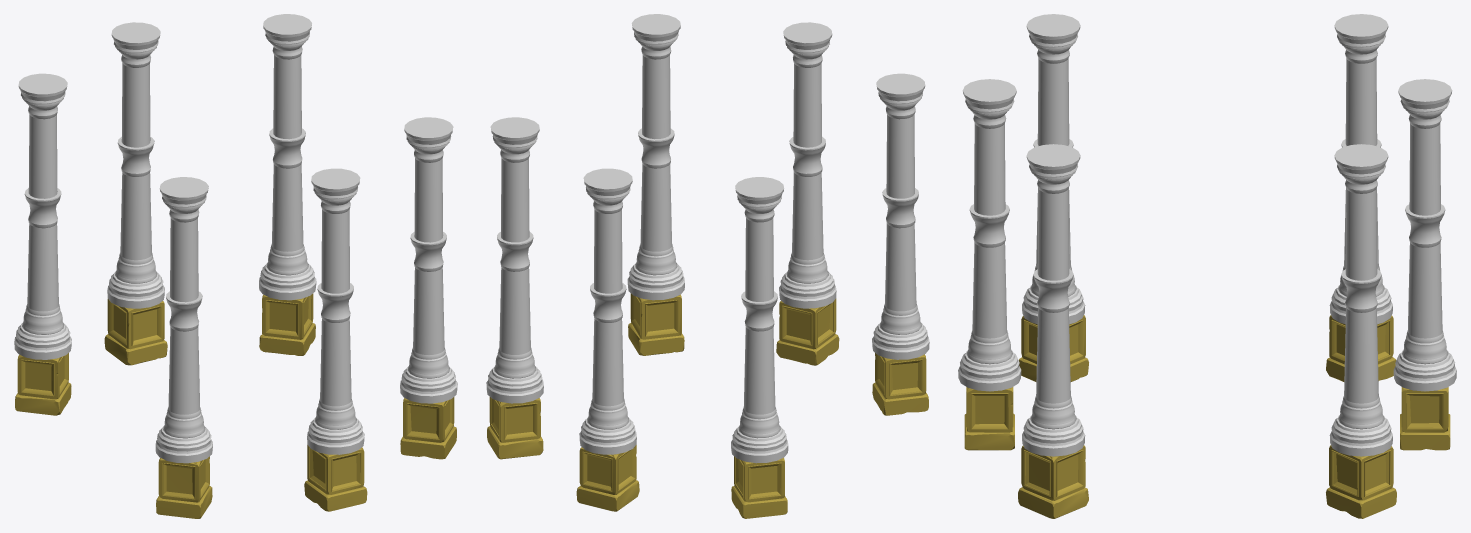
The model's file is SM_alterpillarset.fbx.
3 views of the same model, side by side, from view 1: azimuth 30°, elevation 25°; view 2: azimuth 150°, elevation 25°; view 3: azimuth 270°, elevation 25° (orthographic). The views are drawn at different scales.
Parts seen in each view (by area): view 1: SM_BossPillar, BossPillarbase_low; view 2: SM_BossPillar, BossPillarbase_low; view 3: SM_BossPillar, BossPillarbase_low.
Boxes of the visible parts, left/top/right/bottom form: SM_BossPillar: left=14, top=14, right=457, bottom=463; BossPillarbase_low: left=15, top=293, right=456, bottom=518; SM_BossPillar: left=486, top=14, right=929, bottom=463; BossPillarbase_low: left=487, top=293, right=928, bottom=518; SM_BossPillar: left=958, top=14, right=1456, bottom=456; BossPillarbase_low: left=964, top=315, right=1450, bottom=518.
Bounding box in the file's own units: 1195 × 1216 × 1574.
